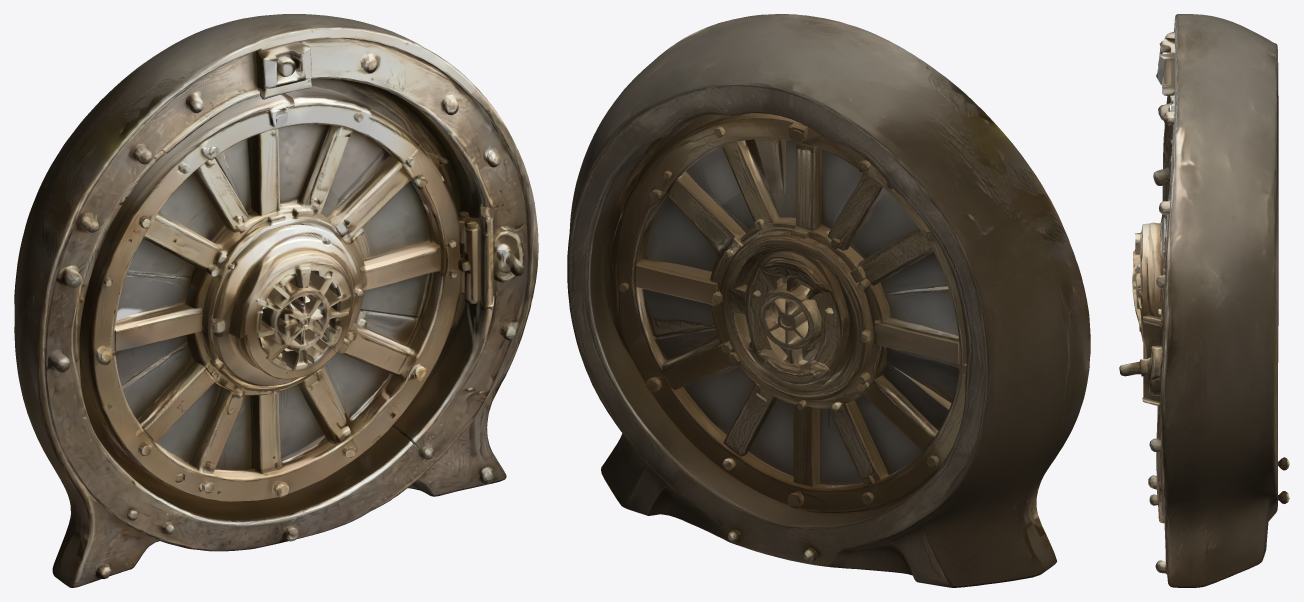
The model's file is vault_door.fbx.
3 views of the same model, side by side, from view 1: azimuth 30°, elevation 25°; view 2: azimuth 150°, elevation 25°; view 3: azimuth 270°, elevation 25° (orthographic). The views are drawn at different scales.
Parts seen in each view (by area): view 1: model; view 2: model; view 3: model.
Boxes of the visible parts, x1=… form: model: x1=14, y1=14, x2=538, y2=587; model: x1=567, y1=14, x2=1090, y2=587; model: x1=1119, y1=14, x2=1289, y2=587.
Bounding box in the file's own units: 190 × 182 × 61.39.
1 material, 1 textured.
